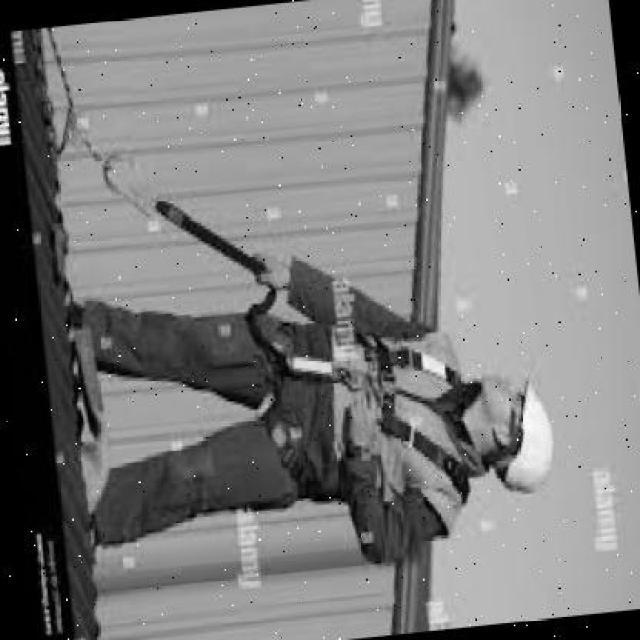Arnes_seguridad: (229, 272, 480, 535)
